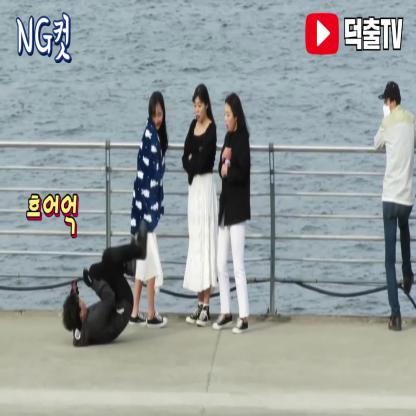Fall_Down: (63, 219, 148, 349)
